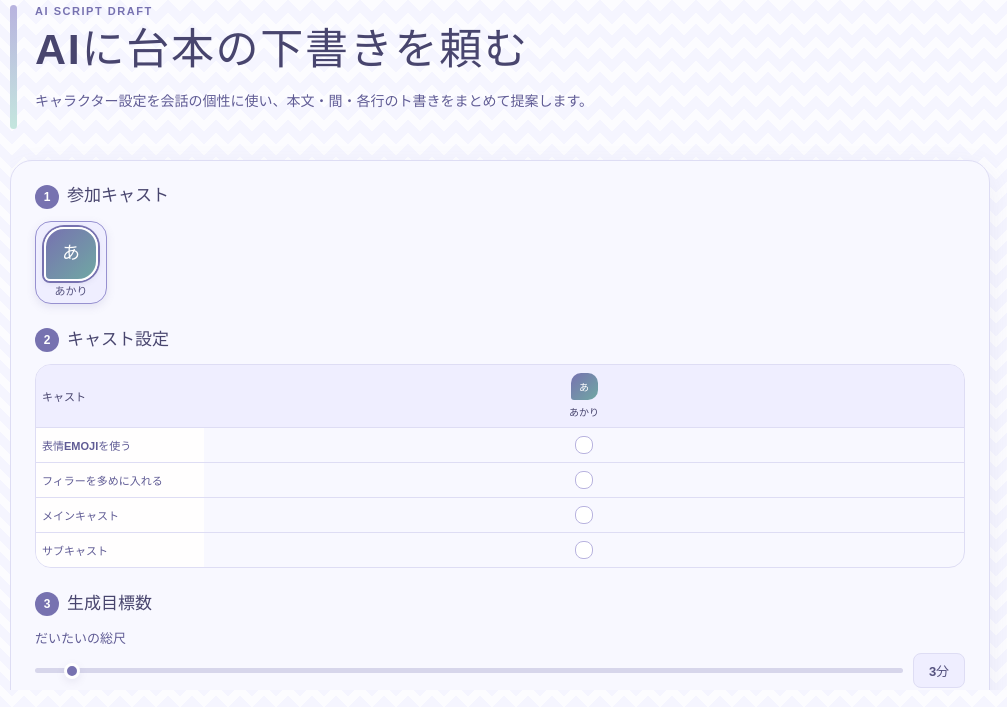
Test: DraftView › keeps the AI draft page mounted when the duration changes
This screenshot has width=1007, height=707.
Set the slider named "だいたいの総尺（分）" to "4" at point(86, 670), box [35, 662, 903, 680]
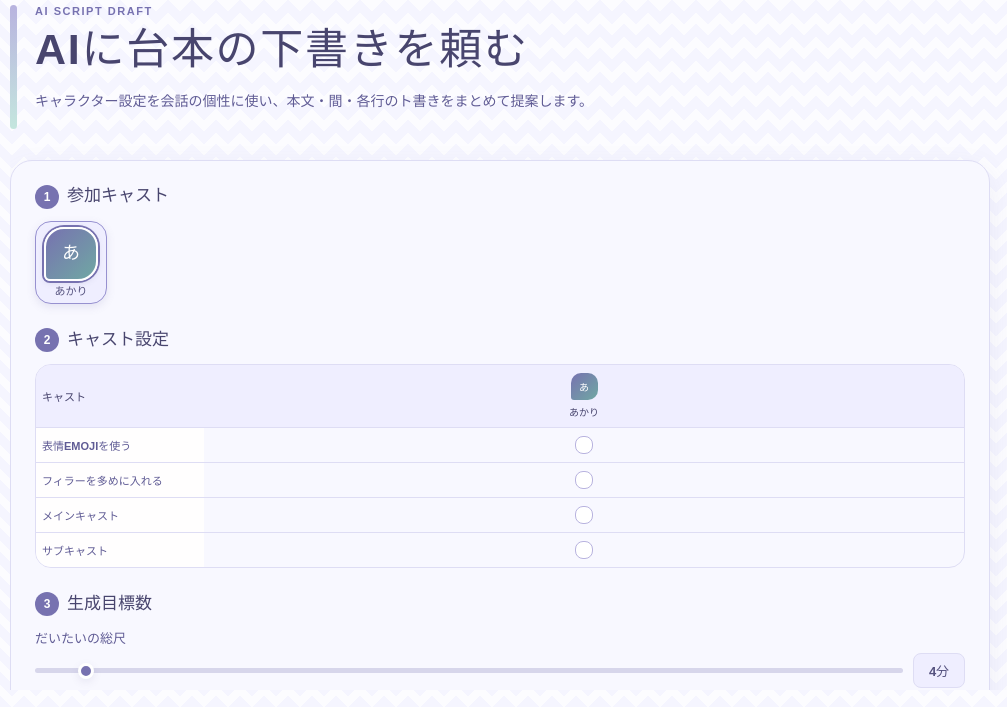
Check: the heading "AIに台本の下書きを頼む" is shown, box [35, 25, 529, 73]
Check: the text "4分" is shown, box [913, 653, 965, 688]
